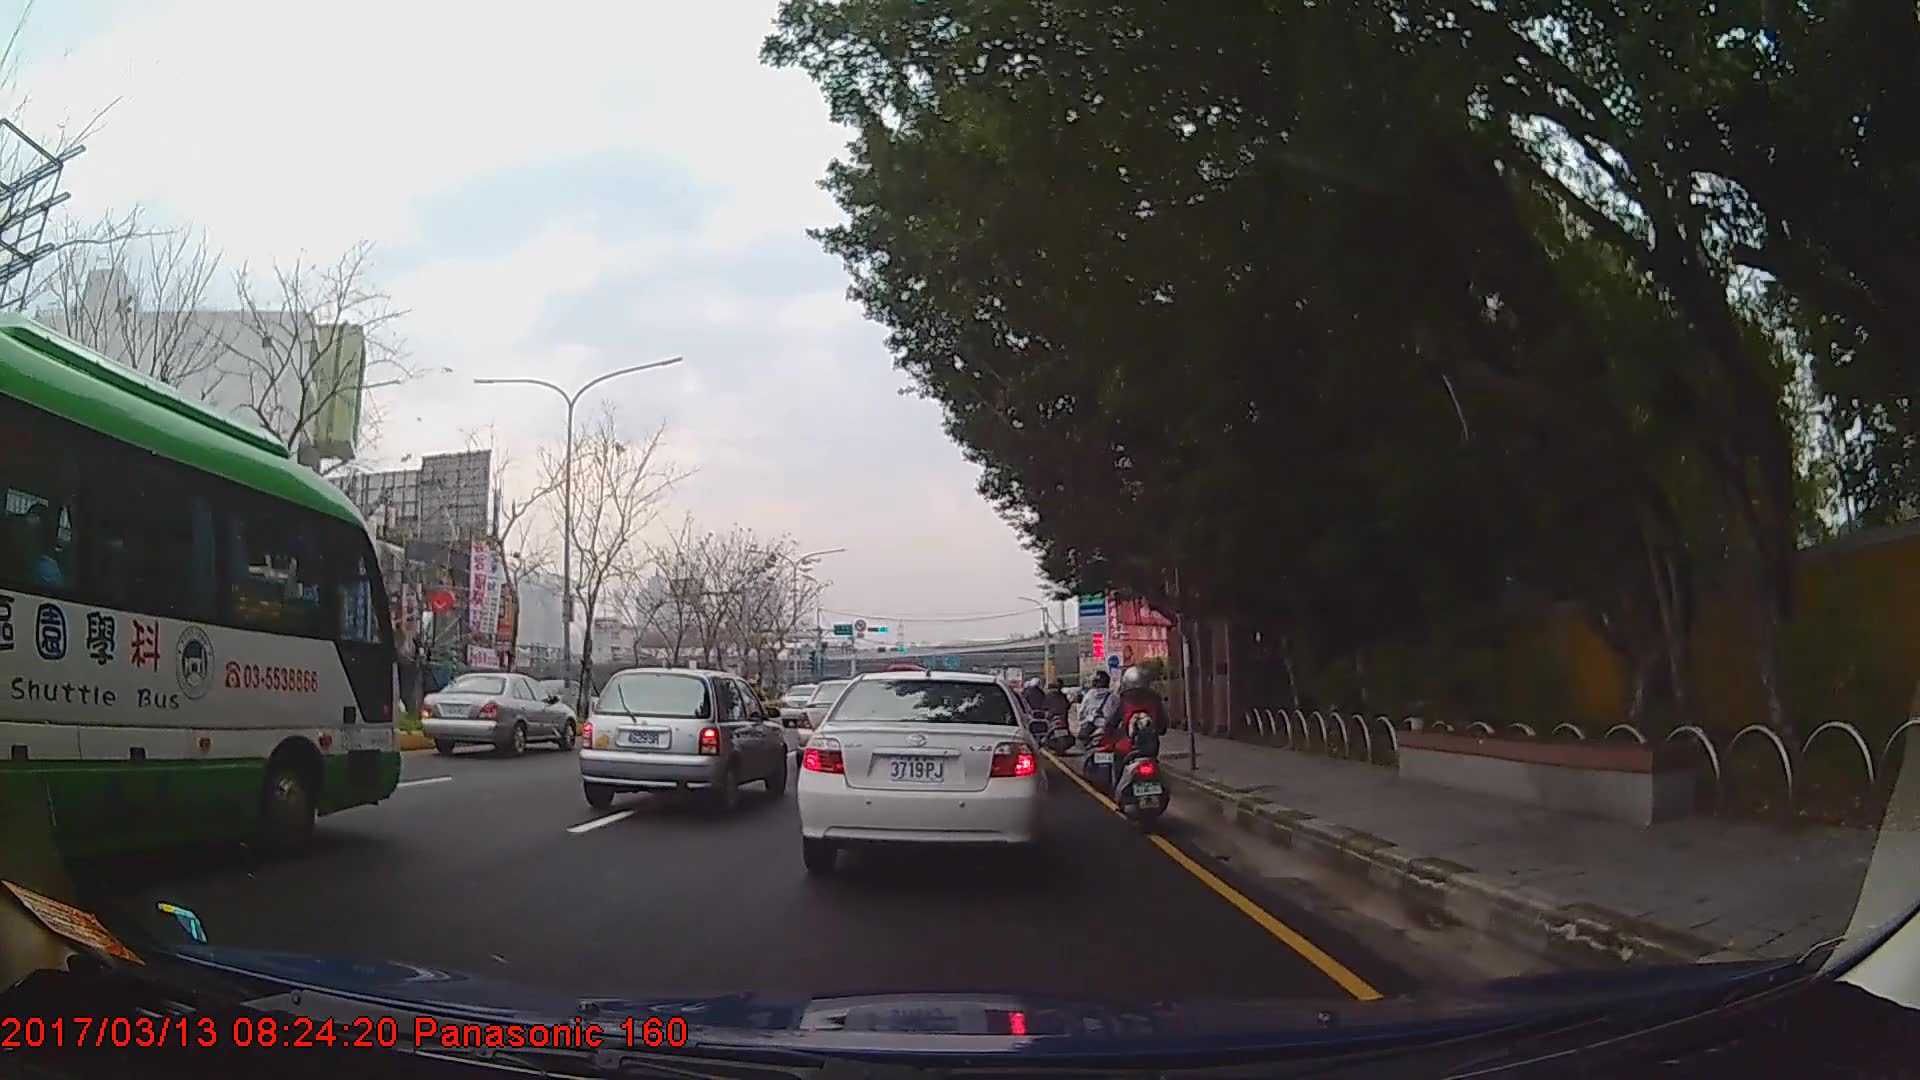rider: (1104, 661, 1164, 820), (1079, 669, 1121, 789), (1043, 677, 1071, 741)
vehicle: (0, 310, 404, 887), (793, 672, 1045, 869), (579, 667, 788, 814), (421, 670, 574, 761)
